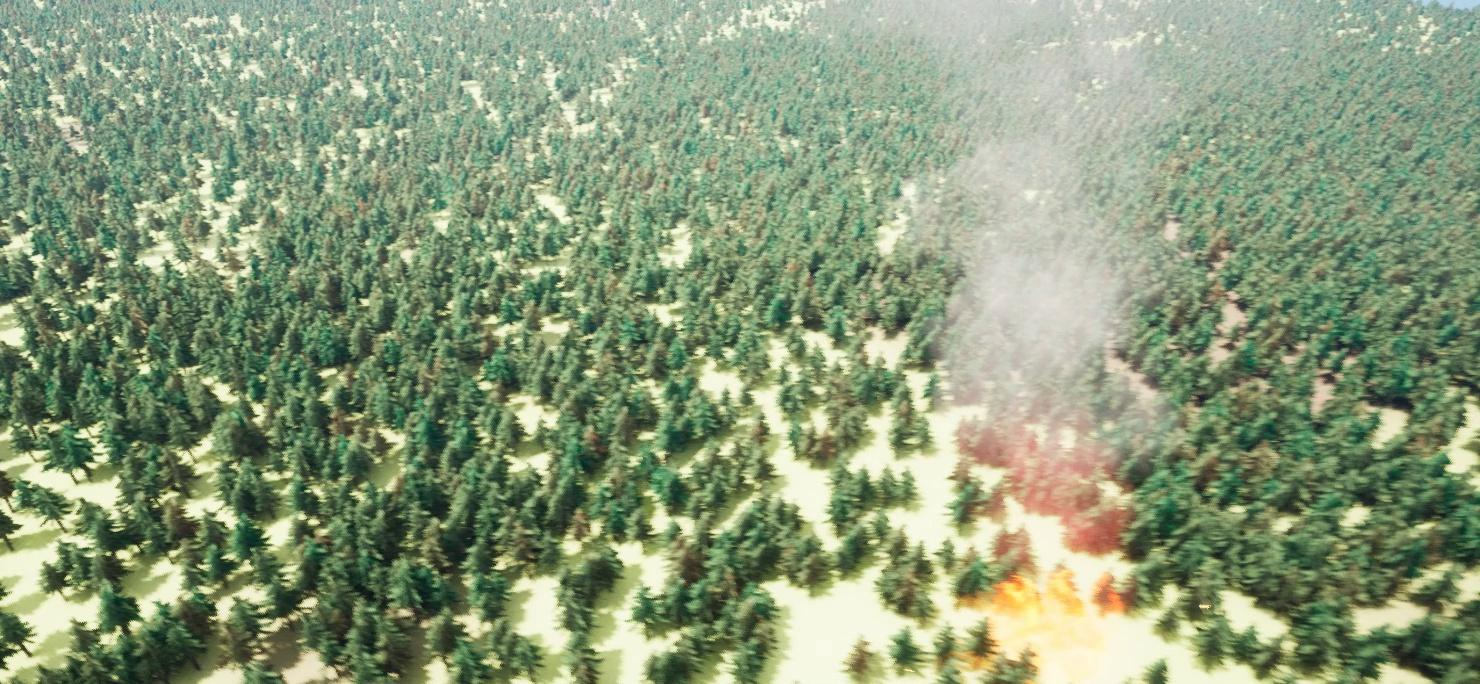fire: (985, 561, 1115, 683)
smoke: (895, 0, 1164, 541)
